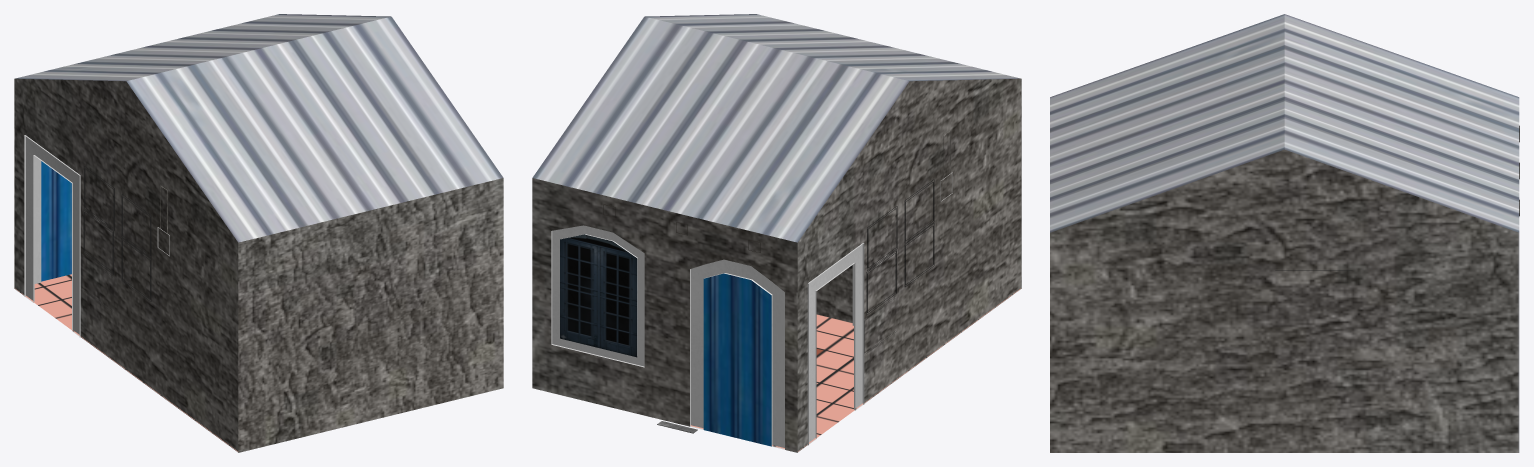
Rendered from Cuarto.glb.
The picture shows the model from 3 angles, left to right: view 1: azimuth 30°, elevation 25°; view 2: azimuth 150°, elevation 25°; view 3: azimuth 270°, elevation 25°; orthographic projection. The views are drawn at different scales.
Visible parts, largest first — view 1: Cuarto.001; view 2: Cuarto.001; view 3: Cuarto.001.
Part boxes in pixels (bbox=[...]): Cuarto.001: bbox=[14, 14, 503, 452]; Cuarto.001: bbox=[532, 14, 1021, 452]; Cuarto.001: bbox=[1050, 14, 1519, 452].
Size of the model in its own units: 2.65 by 2.84 by 3.87.
Materials: 1 (1 with a texture image).
